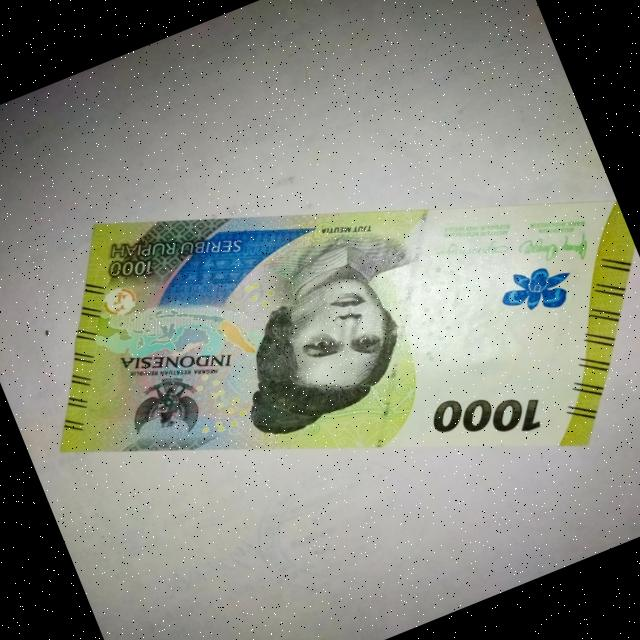1K: (0, 32, 640, 634)
